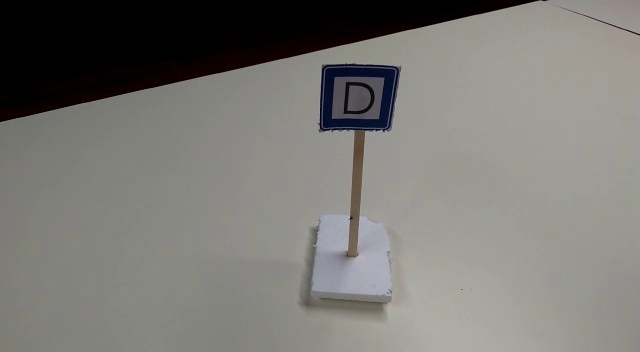durak: (320, 64, 393, 131)
